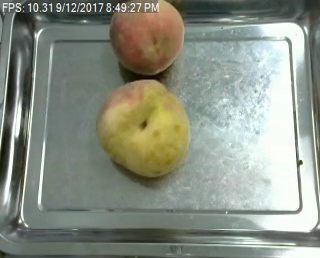Peach: (96, 78, 189, 176), (108, 0, 185, 75)
